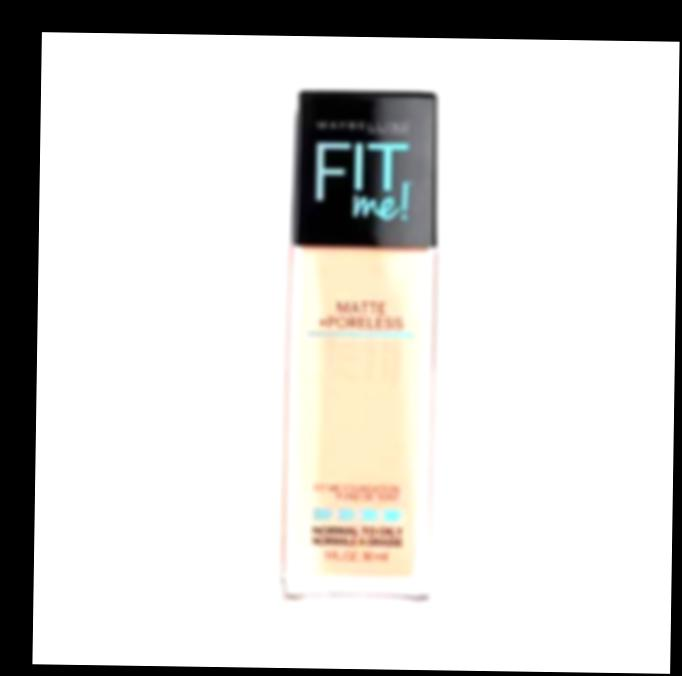cosmetic: (288, 89, 440, 611)
